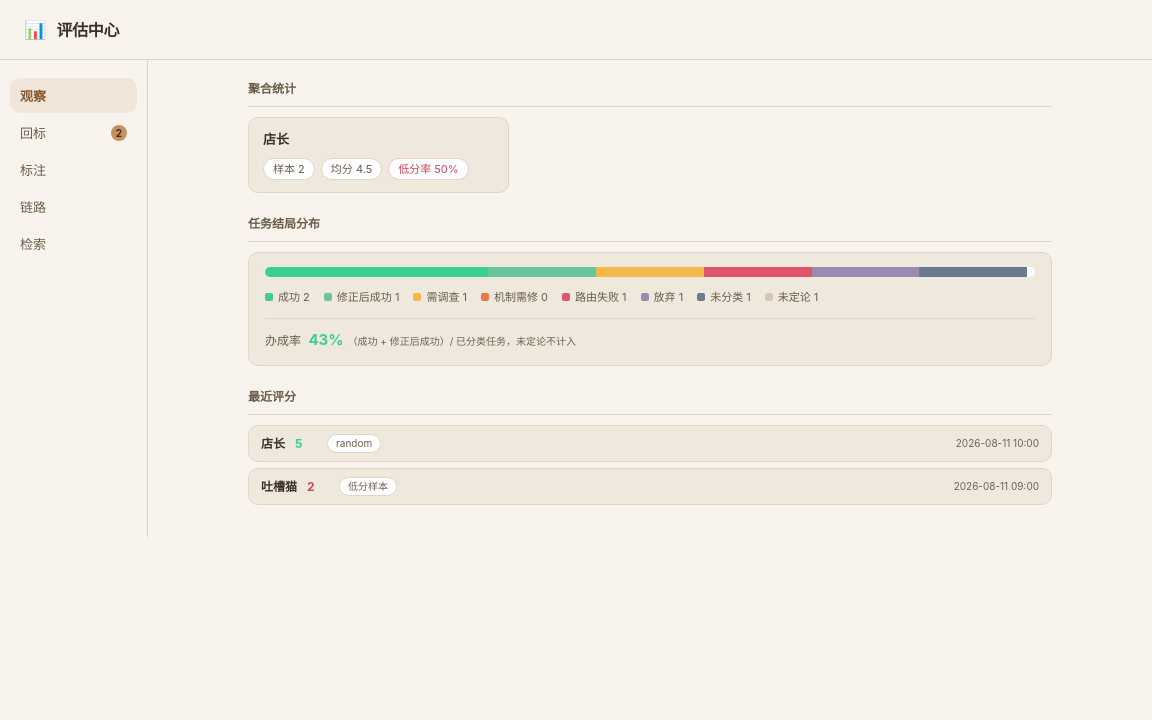
Scenario: EvaluationView 挂载测试（mock useApi） › J1 标注：池子界面不出现判官分，取数是 label/pool 而非 review/pending
Click the button "标注" at (74, 170), box [10, 152, 137, 187]
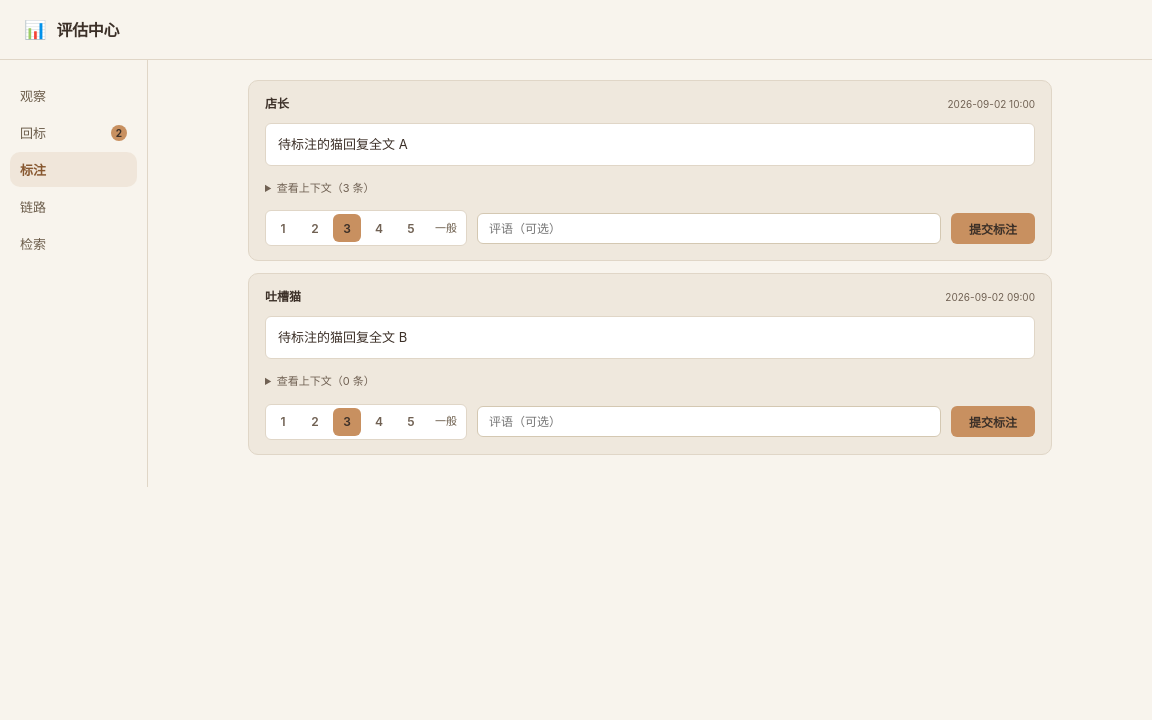
Result: the element with class "eval-pane" shows "待标注的猫回复全文 A" at [278, 136, 408, 152]
Result: the text with class "eval-pane" no longer shows "低分样本"
